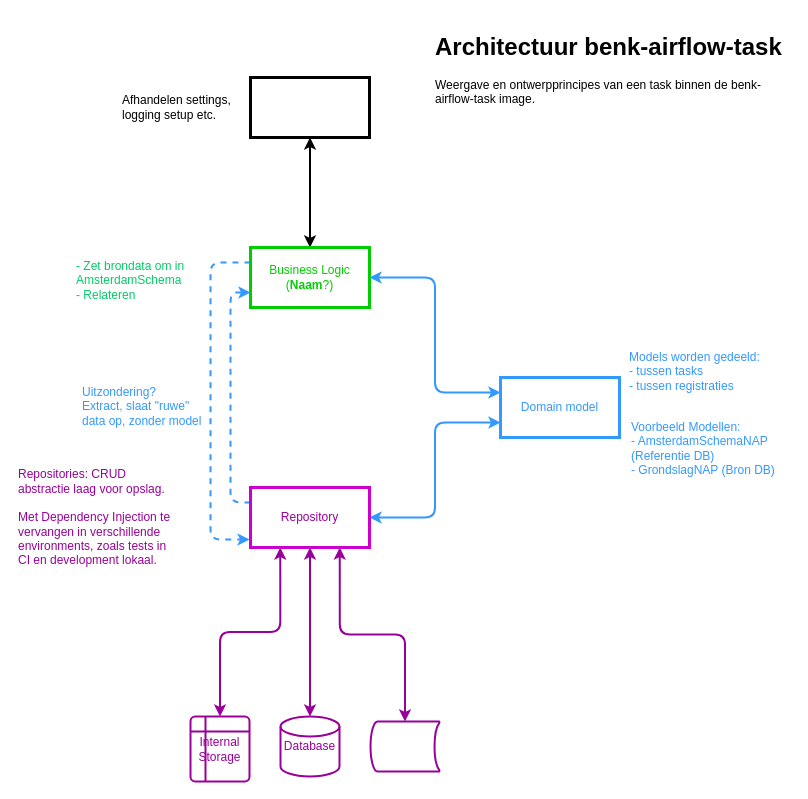
Some shapes in this 808 by 799 pixel diagram are drawn without their labels. The shapes that lost their labels are listed below. From the top down, each one's centre as x and y in pixels, then its label:
the point at 309,107: Application
the point at 404,746: File
